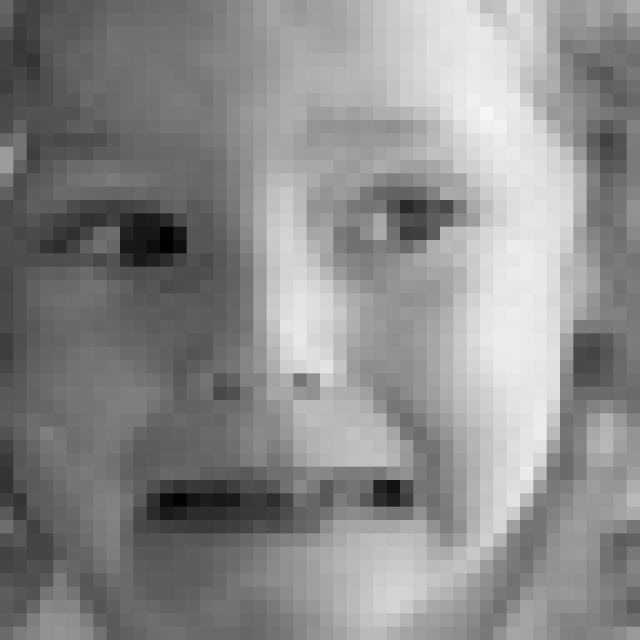fear: (31, 99, 497, 568)
